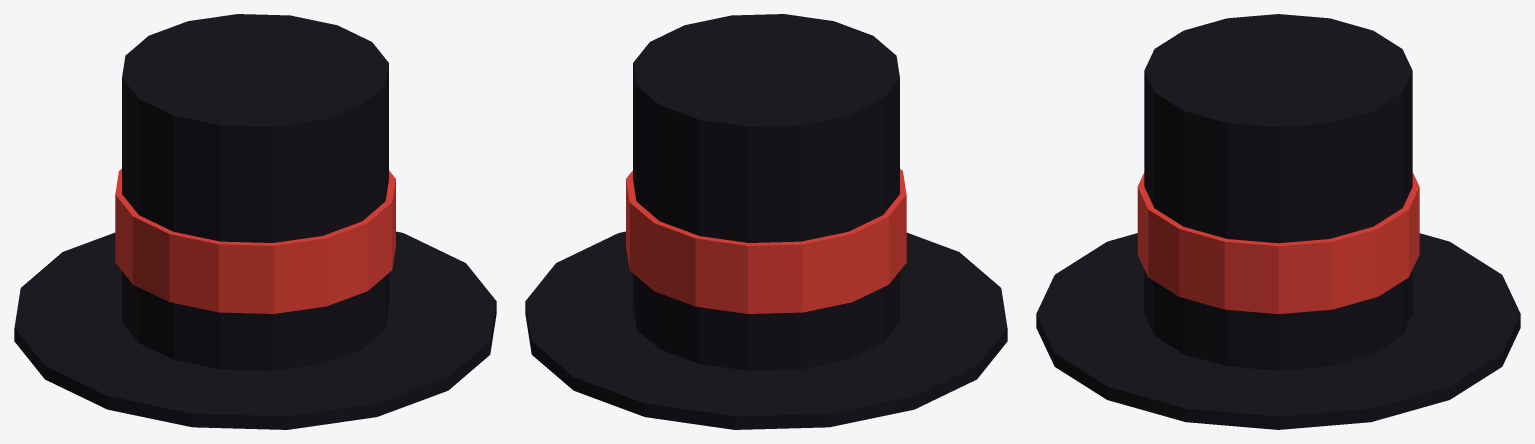
File: Hat.fbx
The picture shows the model from 3 angles, left to right: view 1: azimuth 30°, elevation 25°; view 2: azimuth 150°, elevation 25°; view 3: azimuth 270°, elevation 25°; orthographic projection.
Parts seen in each view (by area): view 1: Hat; view 2: Hat; view 3: Hat.
Part boxes in pixels (x1=…): Hat: x1=14, y1=14, x2=496, y2=429; Hat: x1=525, y1=14, x2=1007, y2=429; Hat: x1=1036, y1=14, x2=1520, y2=429.
Size of the model in its own units: 361 by 211 by 361.
